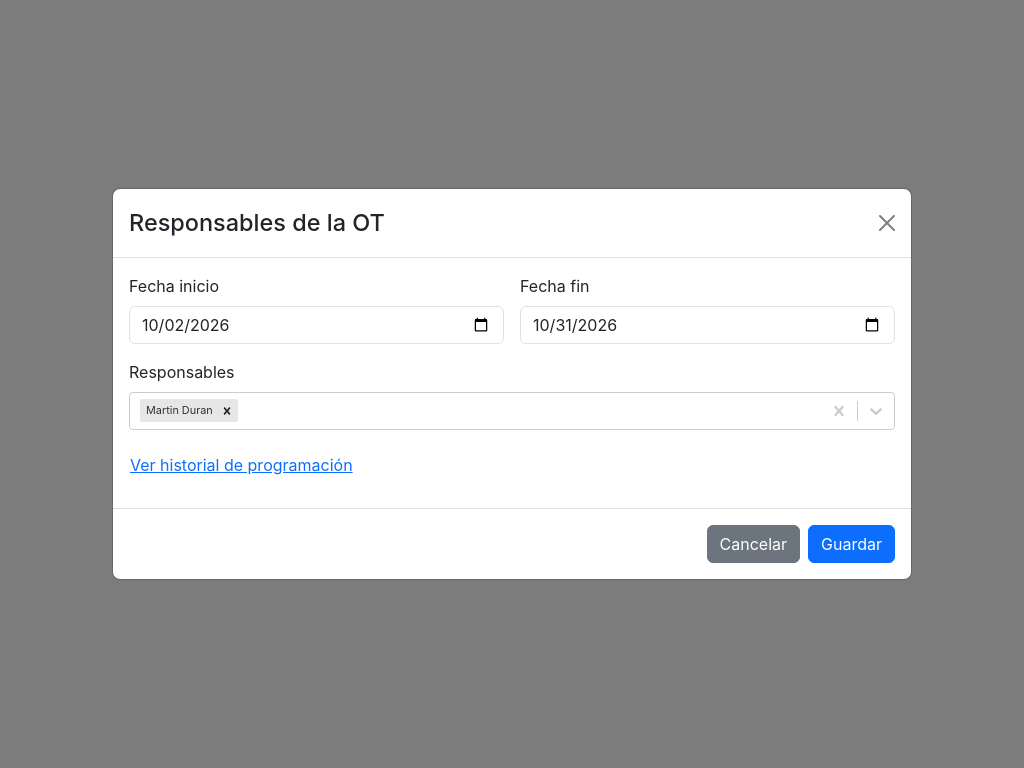
Test: OtResponsablesModal › shows the previous entry only after clicking "Ver historial de programación"
The image size is (1024, 768).
Check: the text "J. Perez" is not shown
Click the button "Ver historial de programación" at (247, 465), box [129,446,366,484]
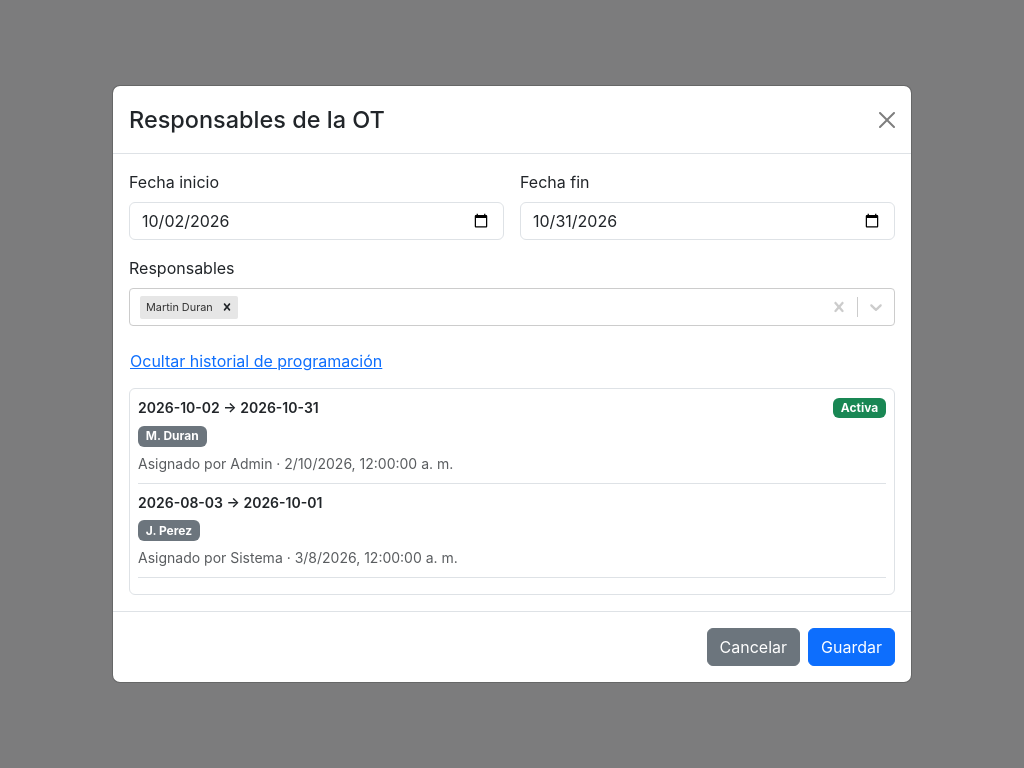
Check: the text "J. Perez" is shown, box [138,520,200,541]
